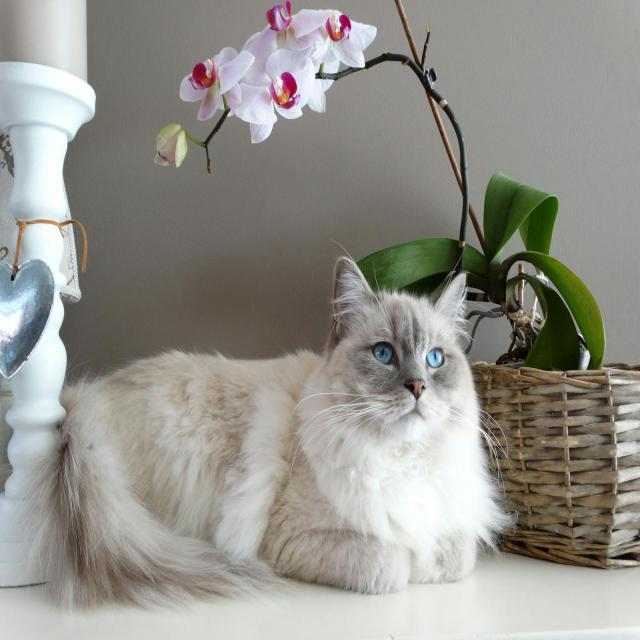Cat: (11, 244, 518, 614)
